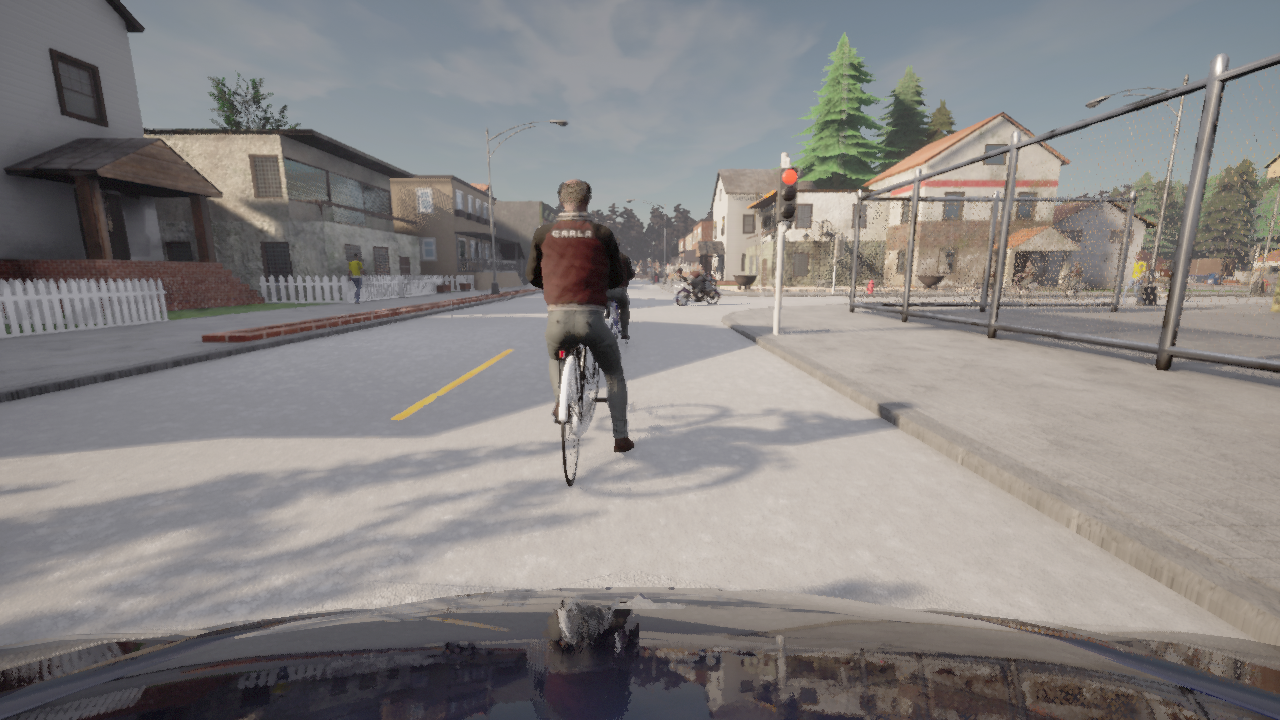cyclist: (0, 588, 1279, 719), (554, 344, 607, 486), (673, 273, 721, 306), (609, 300, 626, 345), (971, 285, 1015, 302), (1153, 283, 1191, 302), (1004, 278, 1040, 297), (1049, 282, 1088, 297), (666, 274, 688, 293)
pedestrian: (1119, 253, 1147, 307), (348, 253, 368, 304)
